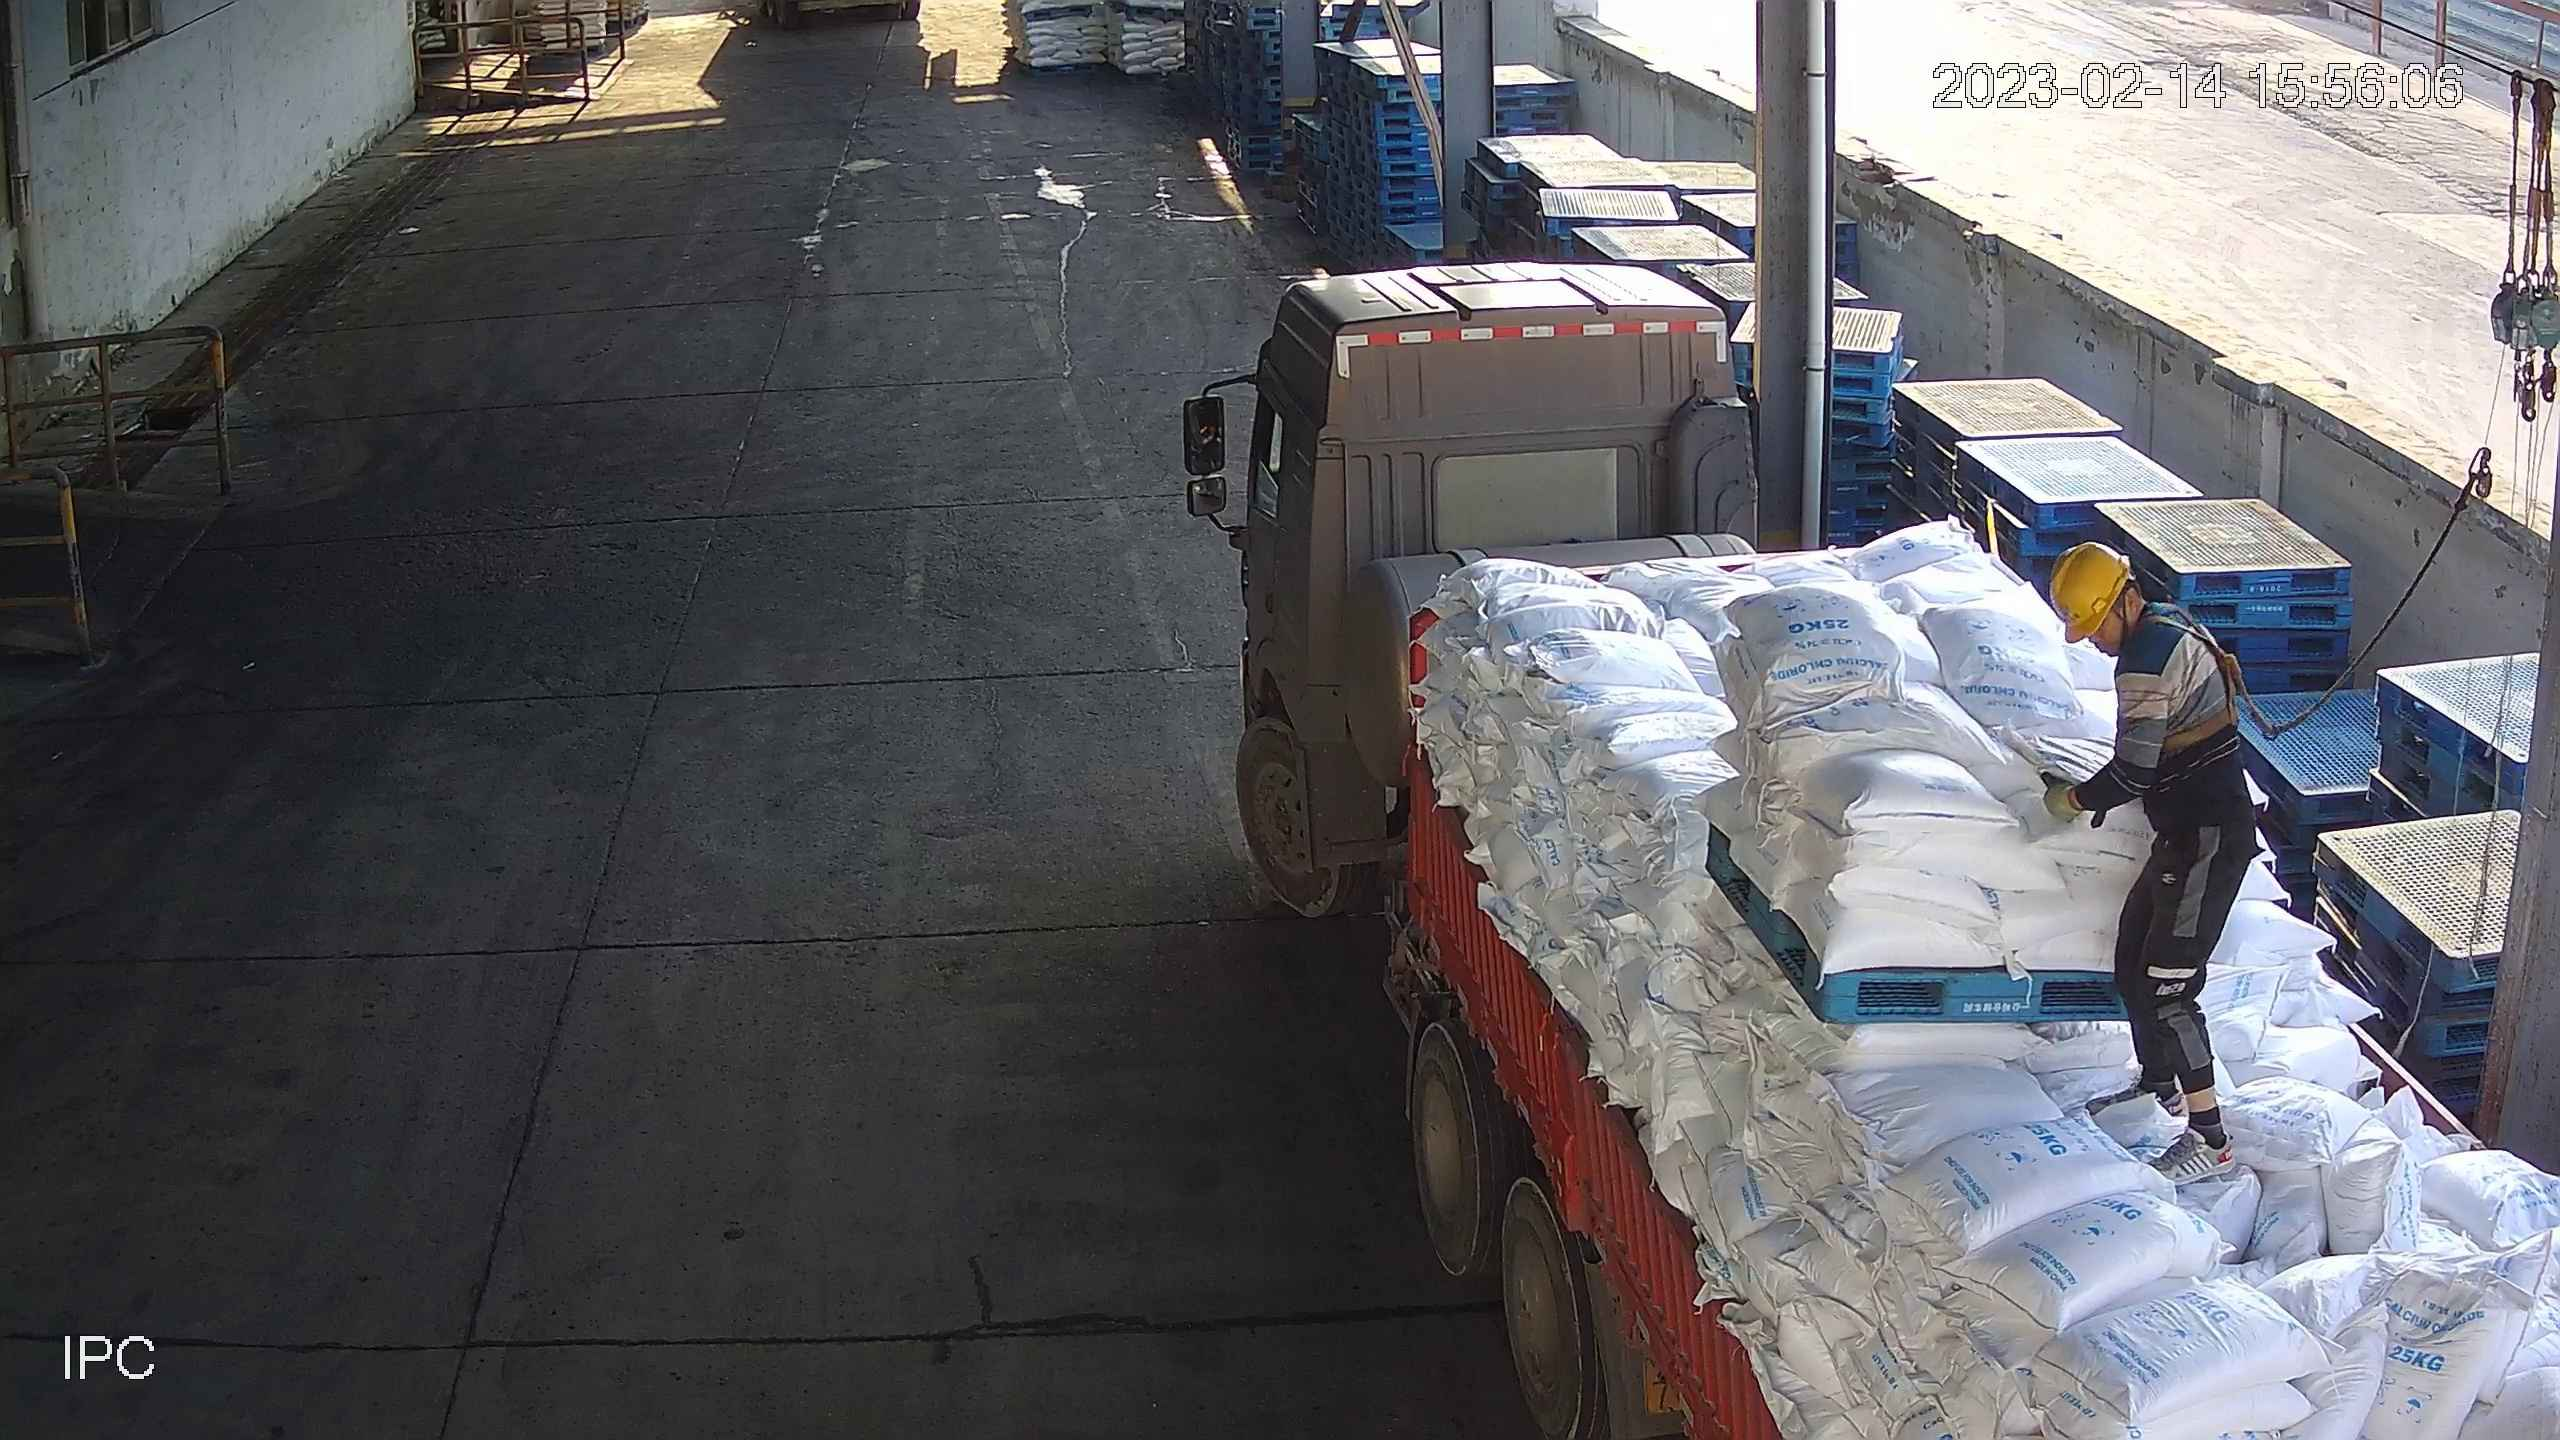belt: (2119, 600, 2277, 755)
head: (2048, 540, 2241, 695)
helmet: (2047, 541, 2131, 644)
people: (2044, 538, 2260, 1188)
truck: (1233, 259, 2560, 1440)
